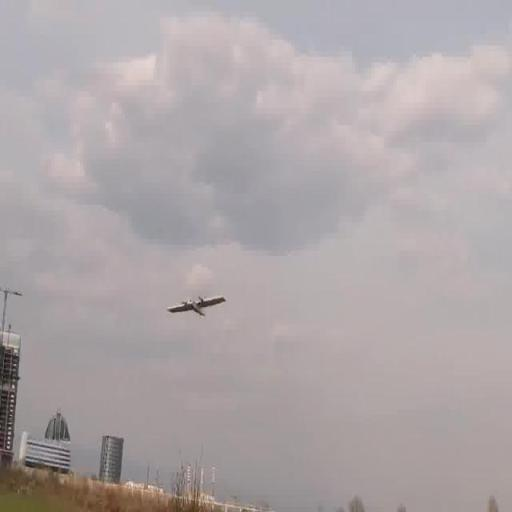uav: (168, 290, 228, 328)
